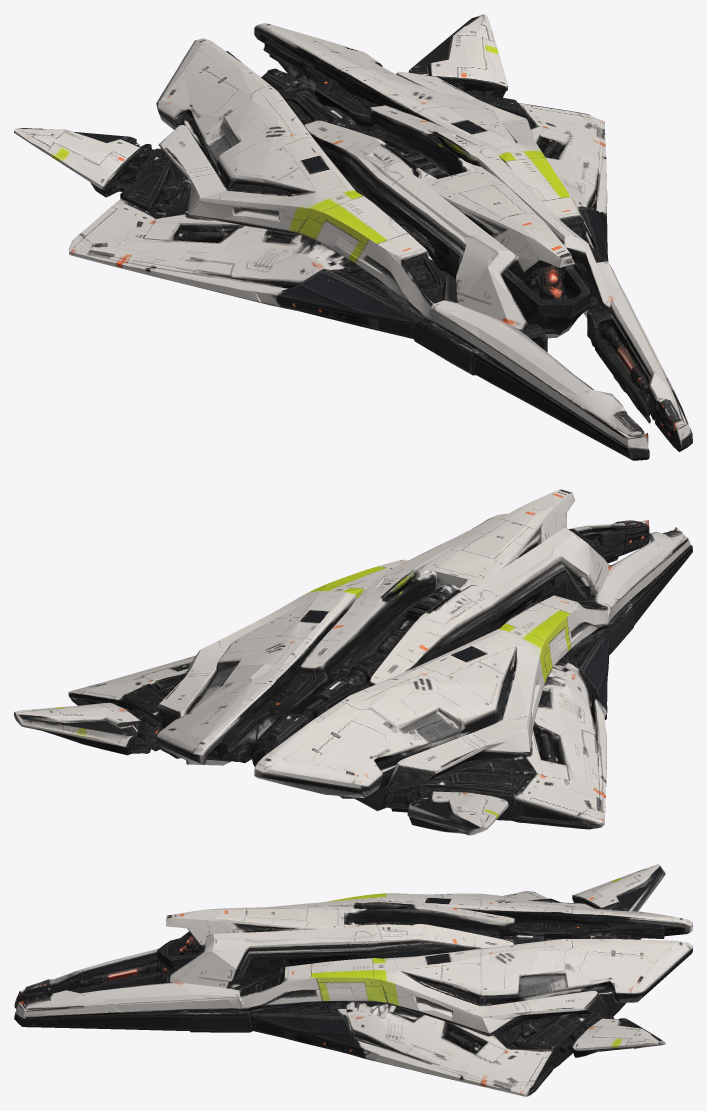
Rendered from v4-interceptor.glb.
3 views of the same model, one above another, from view 1: azimuth 30°, elevation 25°; view 2: azimuth 150°, elevation 25°; view 3: azimuth 270°, elevation 25° (orthographic). The views are drawn at different scales.
Parts seen in each view (by area): view 1: interceptor_body_00; view 2: interceptor_body_00; view 3: interceptor_body_00.
Part boxes in pixels (x1,y1,x2,y2): interceptor_body_00: (14,14,692,460); interceptor_body_00: (14,489,692,835); interceptor_body_00: (14,864,692,1096).
Size of the model in its own units: 0.7063 by 0.1691 by 1.
Materials: 1 (1 with a texture image).
